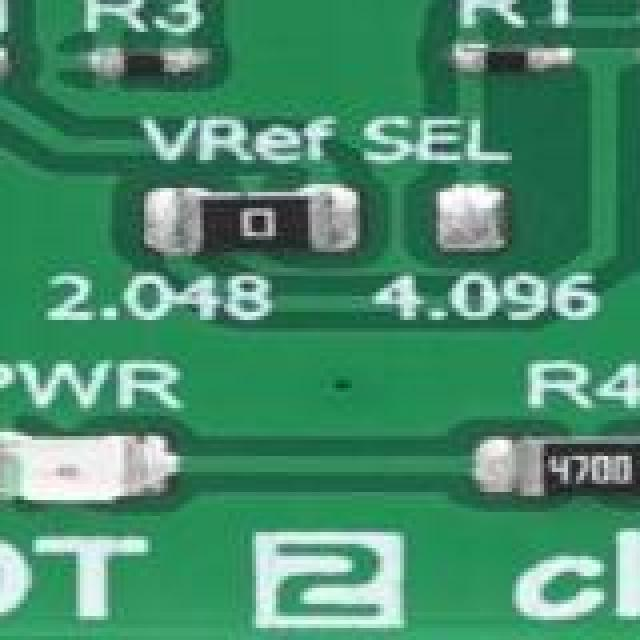LED: (0, 428, 164, 504)
capacitor: (0, 56, 4, 92)
resistor: (148, 192, 340, 248), (508, 436, 640, 500), (92, 48, 212, 86), (460, 48, 556, 84)
